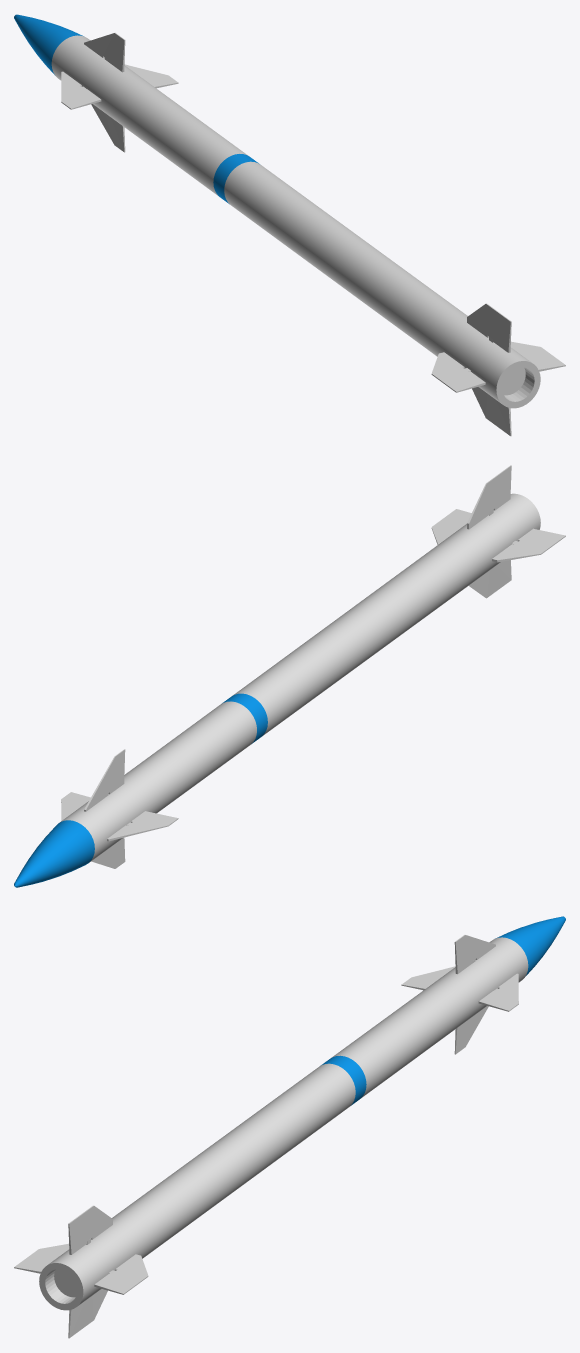
The picture shows the model from 3 angles, top to bottom: view 1: azimuth 30°, elevation 25°; view 2: azimuth 150°, elevation 25°; view 3: azimuth 330°, elevation 25°; orthographic projection.
Visible parts, largest first — view 1: Cylinder.003; view 2: Cylinder.003; view 3: Cylinder.003.
Part boxes in pixels (<box>): Cylinder.003: <box>14,14,565,436</box>; Cylinder.003: <box>14,465,565,887</box>; Cylinder.003: <box>14,916,565,1338</box>.
Size of the model in its own units: 1045 by 1045 by 8320.
